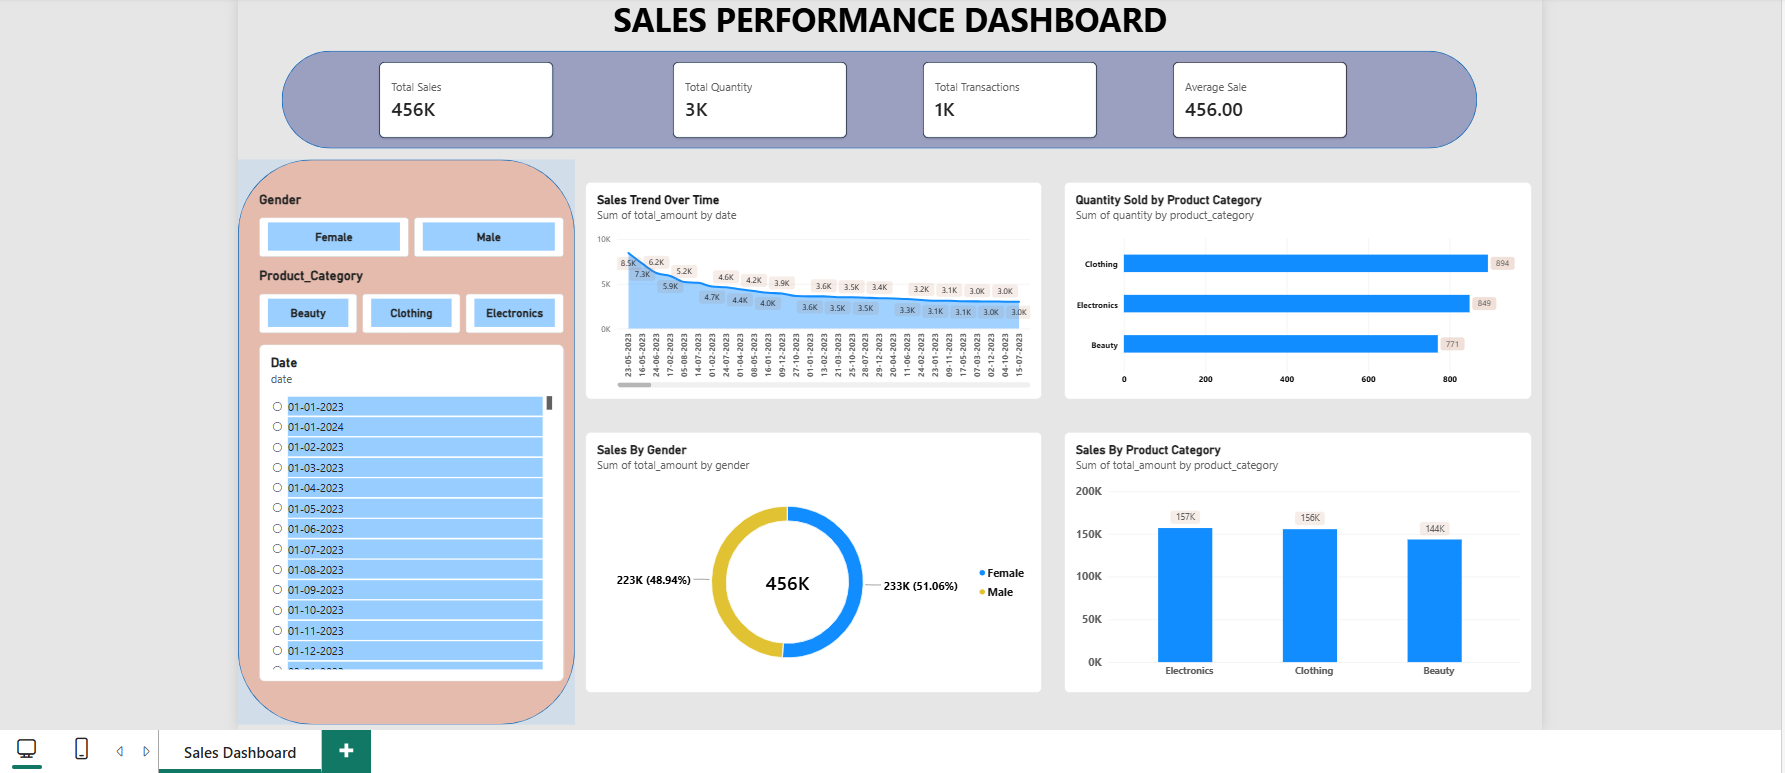

The dashboard page shown, as its layout file describes it:
{"tool":"powerbi","page":{"name":"Sales Dashboard","canvas":[1920,1080],"ordinal":0},"visuals":[{"type":"shape","box":[64,80,1760,144],"z":0},{"type":"textbox","box":[0,188,1920,150],"z":1000},{"type":"textbox","box":[0,0,1920,80],"z":2000},{"type":"cardVisual","fields":{"Data":["Sum(Cleaned_Sales_Dataset.total_amount)"]},"box":[208,96,256,112],"z":3000},{"type":"cardVisual","fields":{"Data":["Sum(Cleaned_Sales_Dataset.quantity)"]},"box":[640,96,256,112],"z":4000},{"type":"cardVisual","fields":{"Data":["Cleaned_Sales_Dataset.Total Transactions"]},"box":[1008,96,256,112],"z":5000},{"type":"cardVisual","fields":{"Data":["Cleaned_Sales_Dataset.Average Sale"]},"box":[1376,96,256,112],"z":6000},{"type":"lineChart","title":"Sales Trend Over Time","fields":{"Y":["Sum(Cleaned_Sales_Dataset.total_amount)"],"Category":["Cleaned_Sales_Dataset.date"]},"box":[512,272,672,320],"z":7000},{"type":"clusteredColumnChart","title":"Sales By Product Category","fields":{"Category":["Cleaned_Sales_Dataset.product_category"],"Y":["Sum(Cleaned_Sales_Dataset.total_amount)"]},"box":[1216,640,688,384],"z":8000},{"type":"donutChart","title":"Sales By Gender","fields":{"Category":["Cleaned_Sales_Dataset.gender"],"Y":["Sum(Cleaned_Sales_Dataset.total_amount)"]},"box":[512,640,672,384],"z":9000},{"type":"clusteredBarChart","title":"Quantity Sold by Product Category","fields":{"Y":["Sum(Cleaned_Sales_Dataset.quantity)"],"Category":["Cleaned_Sales_Dataset.product_category"]},"box":[1216,272,688,320],"z":10000},{"type":"shape","box":[0,240,496,832],"z":10500},{"type":"advancedSlicerVisual","title":"Gender","fields":{"Values":["Cleaned_Sales_Dataset.gender"]},"box":[32,288,448,96],"z":11000},{"type":"advancedSlicerVisual","title":"Product_Category","fields":{"Values":["Cleaned_Sales_Dataset.product_category"]},"box":[32,400,448,96],"z":12000},{"type":"listSlicer","title":"Date","fields":{"Values":["Cleaned_Sales_Dataset.date"]},"box":[32,512,448,496],"z":13000}]}

Visuals, with their boxes on the page's 1920x1080 design canvas (x1, y1, x2, y2). These are canvas units, not pixel positions in the 1785x773 screenshot, which may show the page scaled, cropped or inside an application window:
shape: 64, 80, 1824, 224
textbox: 0, 188, 1920, 338
textbox: 0, 0, 1920, 80
cardVisual - Sum(Cleaned_Sales_Dataset.total_amount): 208, 96, 464, 208
cardVisual - Sum(Cleaned_Sales_Dataset.quantity): 640, 96, 896, 208
cardVisual - Cleaned_Sales_Dataset.Total Transactions: 1008, 96, 1264, 208
cardVisual - Cleaned_Sales_Dataset.Average Sale: 1376, 96, 1632, 208
"Sales Trend Over Time" lineChart: 512, 272, 1184, 592
"Sales By Product Category" clusteredColumnChart: 1216, 640, 1904, 1024
"Sales By Gender" donutChart: 512, 640, 1184, 1024
"Quantity Sold by Product Category" clusteredBarChart: 1216, 272, 1904, 592
shape: 0, 240, 496, 1072
"Gender" advancedSlicerVisual: 32, 288, 480, 384
"Product_Category" advancedSlicerVisual: 32, 400, 480, 496
"Date" listSlicer: 32, 512, 480, 1008
